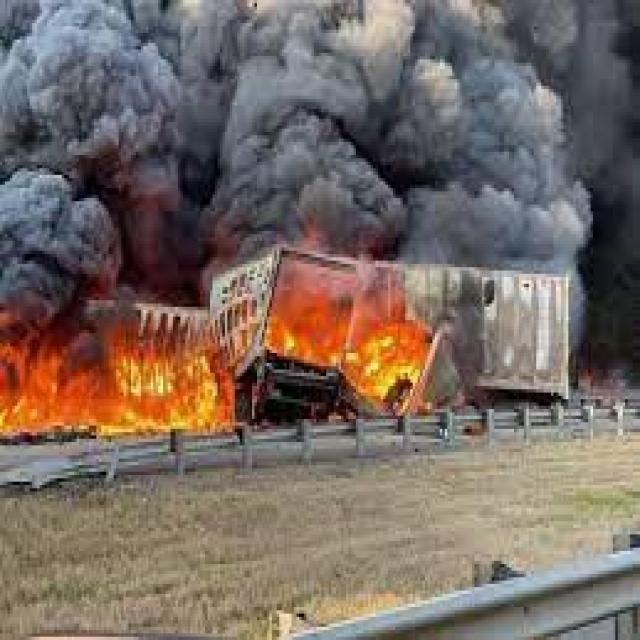fire: (2, 327, 232, 442), (269, 297, 450, 416)
smoke: (215, 3, 640, 274), (2, 3, 215, 300)
